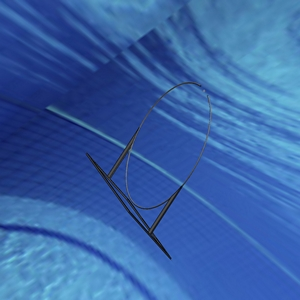circle: (87, 80, 213, 259)
